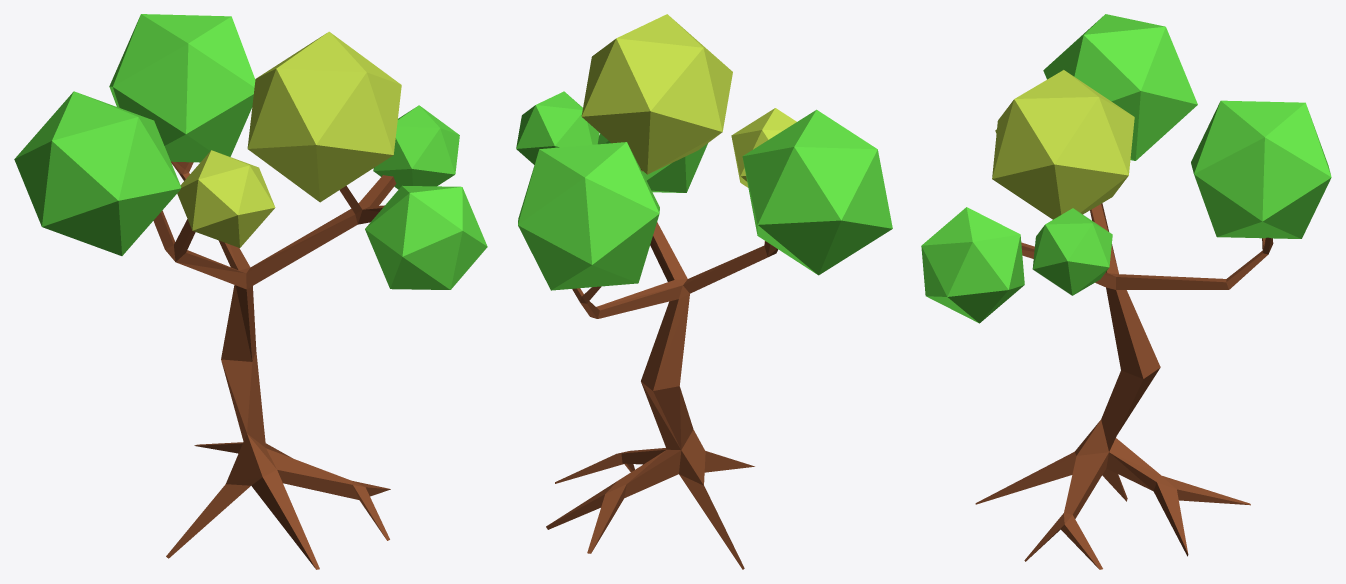
Rendered from biome-tree.fbx.
3 views of the same model, side by side, from view 1: azimuth 30°, elevation 25°; view 2: azimuth 150°, elevation 25°; view 3: azimuth 270°, elevation 25° (orthographic). The views are drawn at different scales.
Parts seen in each view (by area): view 1: Plane, Icosphere.001, Icosphere.003, Icosphere.002, Icosphere.005, Icosphere, Icosphere.004; view 2: Icosphere.001, Icosphere.002, Icosphere.003, Plane, Icosphere.004, Icosphere, Icosphere.005; view 3: Plane, Icosphere.002, Icosphere.003, Icosphere.001, Icosphere.005, Icosphere.004.
Boxes of the visible parts, <box> form: Plane: <box>153,161,396,569</box>; Icosphere.001: <box>14,91,181,255</box>; Icosphere.003: <box>247,31,401,202</box>; Icosphere.002: <box>109,14,255,162</box>; Icosphere.005: <box>365,185,487,289</box>; Icosphere: <box>177,150,275,247</box>; Icosphere.004: <box>373,105,459,189</box>; Icosphere.001: <box>742,109,892,275</box>; Icosphere.002: <box>518,142,659,290</box>; Icosphere.003: <box>581,14,732,174</box>; Plane: <box>546,169,777,569</box>; Icosphere.004: <box>516,91,599,164</box>; Icosphere: <box>731,108,796,187</box>; Icosphere.005: <box>597,133,707,192</box>; Plane: <box>975,203,1273,569</box>; Icosphere.002: <box>1191,100,1331,238</box>; Icosphere.003: <box>992,70,1134,219</box>; Icosphere.001: <box>1043,14,1197,160</box>; Icosphere.005: <box>921,207,1024,323</box>; Icosphere.004: <box>1032,208,1112,295</box>.
Size of the model in its own units: 211 by 253 by 200.
